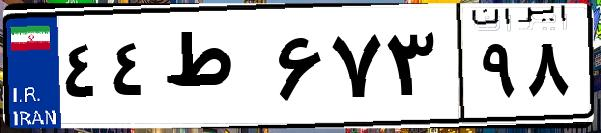3: (385, 28, 445, 110)
4: (57, 26, 110, 100), (110, 28, 158, 98)
6: (270, 28, 330, 110)
7: (330, 28, 385, 110)
8: (525, 38, 570, 115)
9: (475, 38, 525, 113)
ط: (158, 20, 270, 120)
